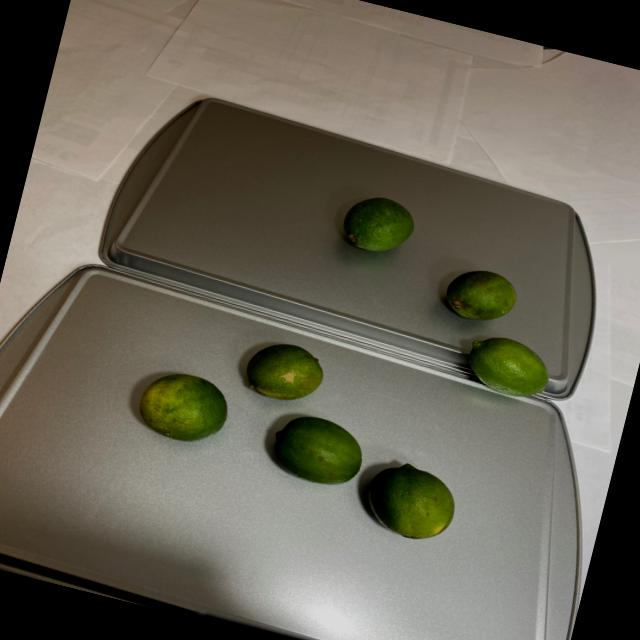lemon: (119, 311, 485, 550), (312, 188, 581, 408)
